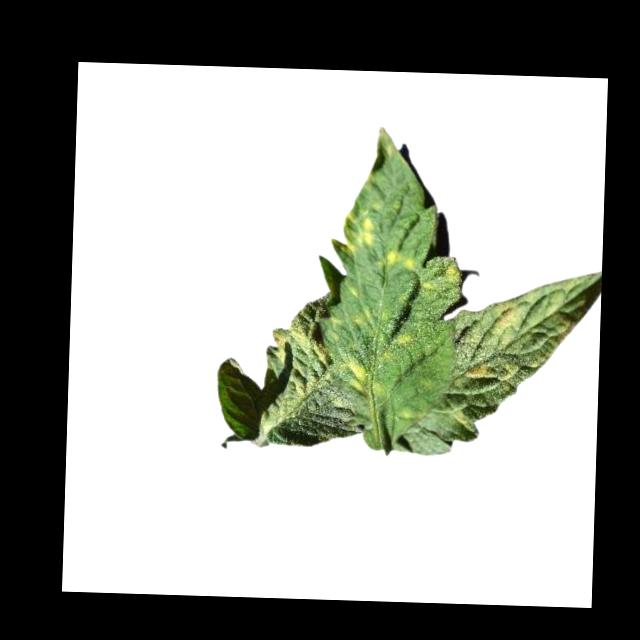Leaf_Mold: (452, 268, 598, 435), (270, 323, 331, 400), (384, 248, 461, 298), (335, 204, 384, 256), (347, 353, 390, 398), (396, 329, 416, 346)
